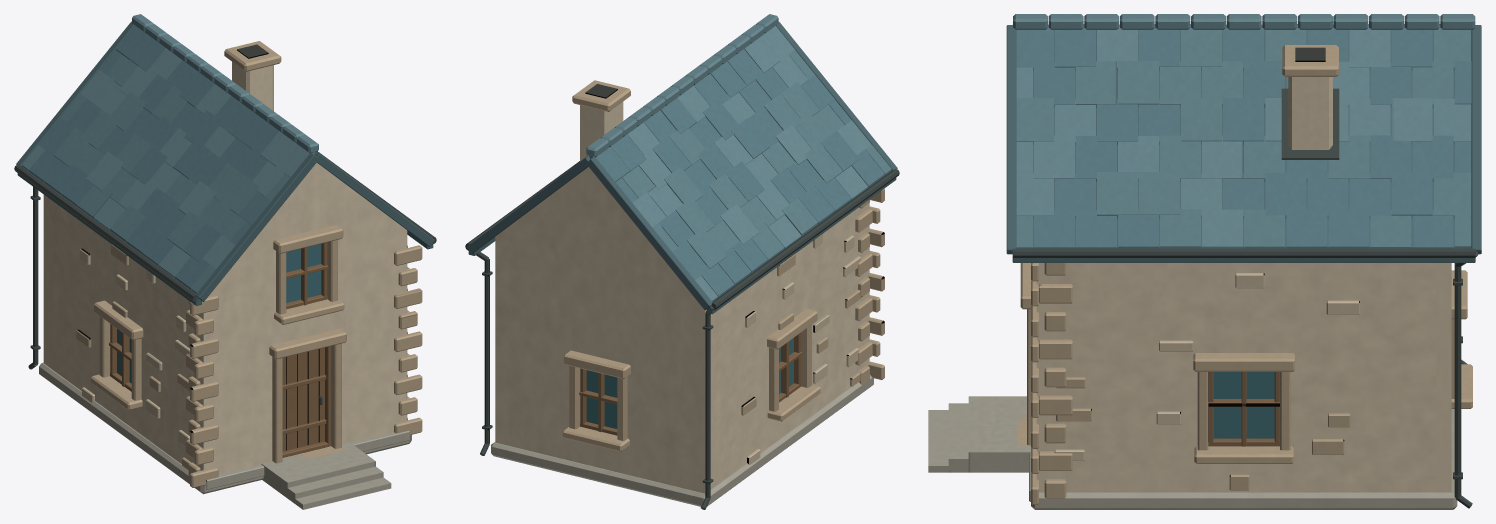
The model's file is cottage-gable.glb.
3 renders of one model, left to right at view 1: azimuth 30°, elevation 25°; view 2: azimuth 150°, elevation 25°; view 3: azimuth 270°, elevation 25°, orthographic. The views are drawn at different scales.
Parts seen in each view (by area): view 1: cottage-gable; view 2: cottage-gable; view 3: cottage-gable.
Boxes of the visible parts, x1,y1,x2,y2 form: cottage-gable: [14, 14, 436, 509]; cottage-gable: [465, 14, 899, 509]; cottage-gable: [928, 14, 1481, 509].
Size of the model in its own units: 5.81 by 7.52 by 8.8.
1 material, 1 textured.
